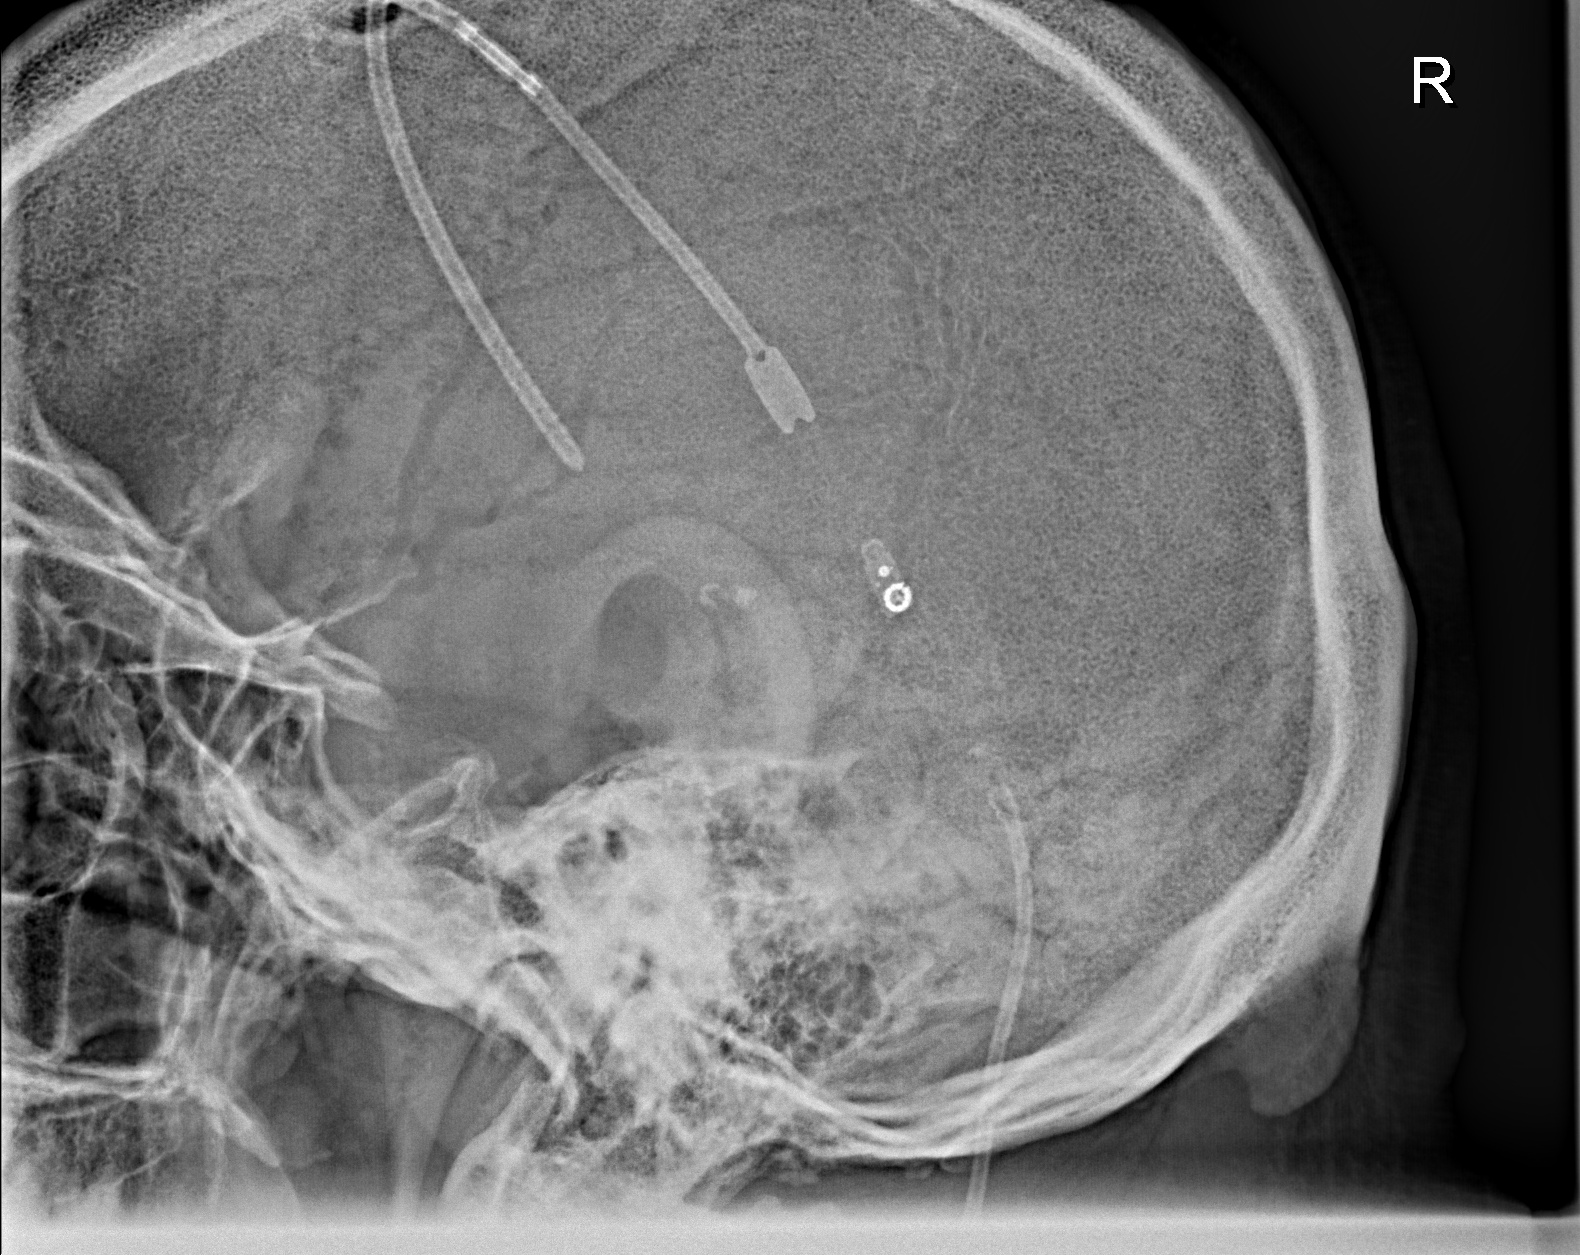Codman Hakim: (850, 533, 929, 633)
